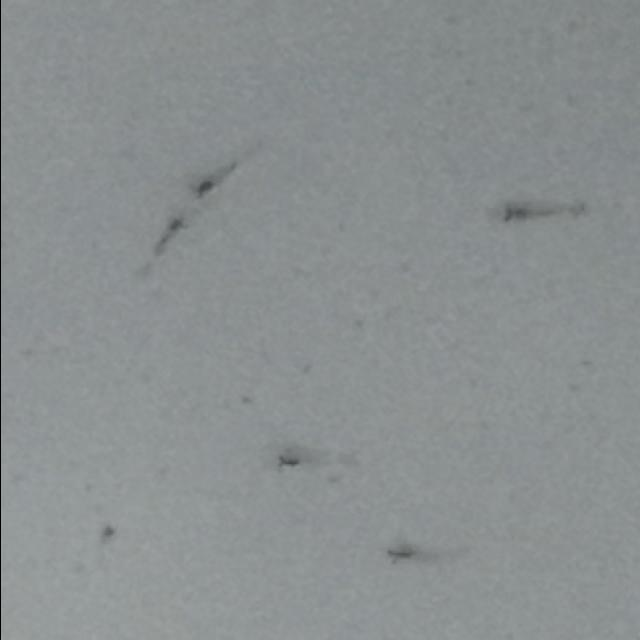shrimp-seed: (188, 154, 240, 200), (150, 214, 188, 254), (498, 198, 547, 228), (381, 542, 422, 572), (271, 448, 310, 476), (92, 513, 122, 549)
